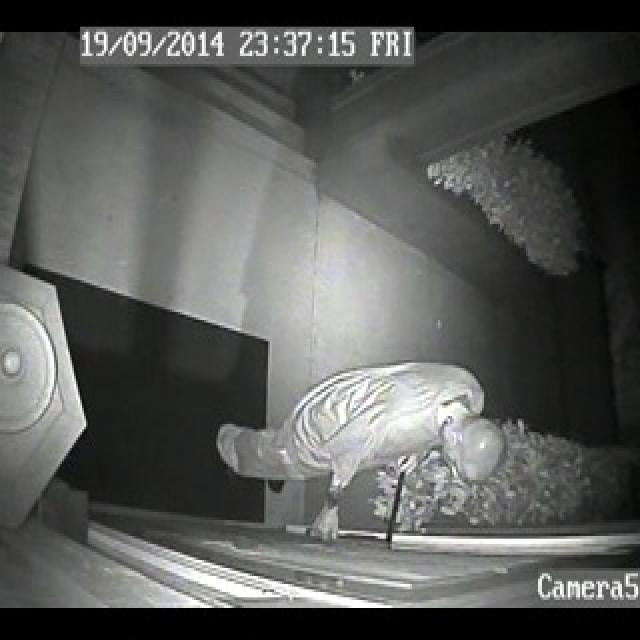thief: (212, 356, 512, 535)
